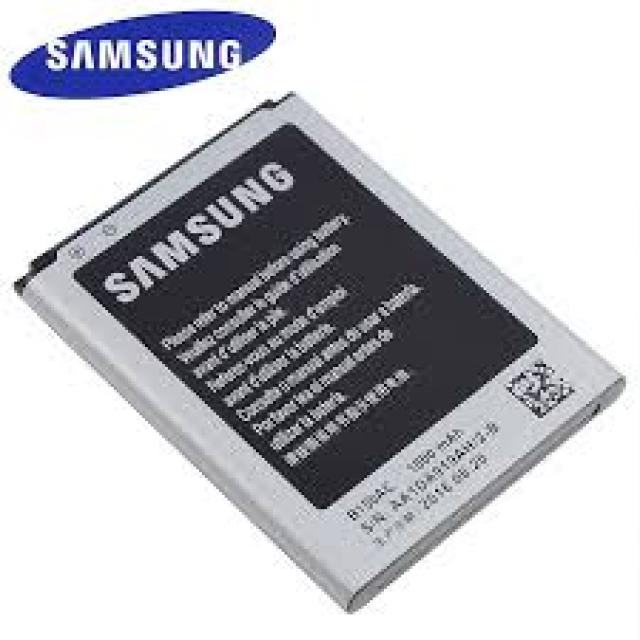non-organic waste: (15, 91, 626, 613)
